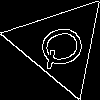Q: (35, 19, 96, 72)
